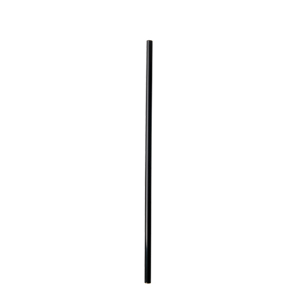Drinking Straw: (142, 38, 155, 285)
